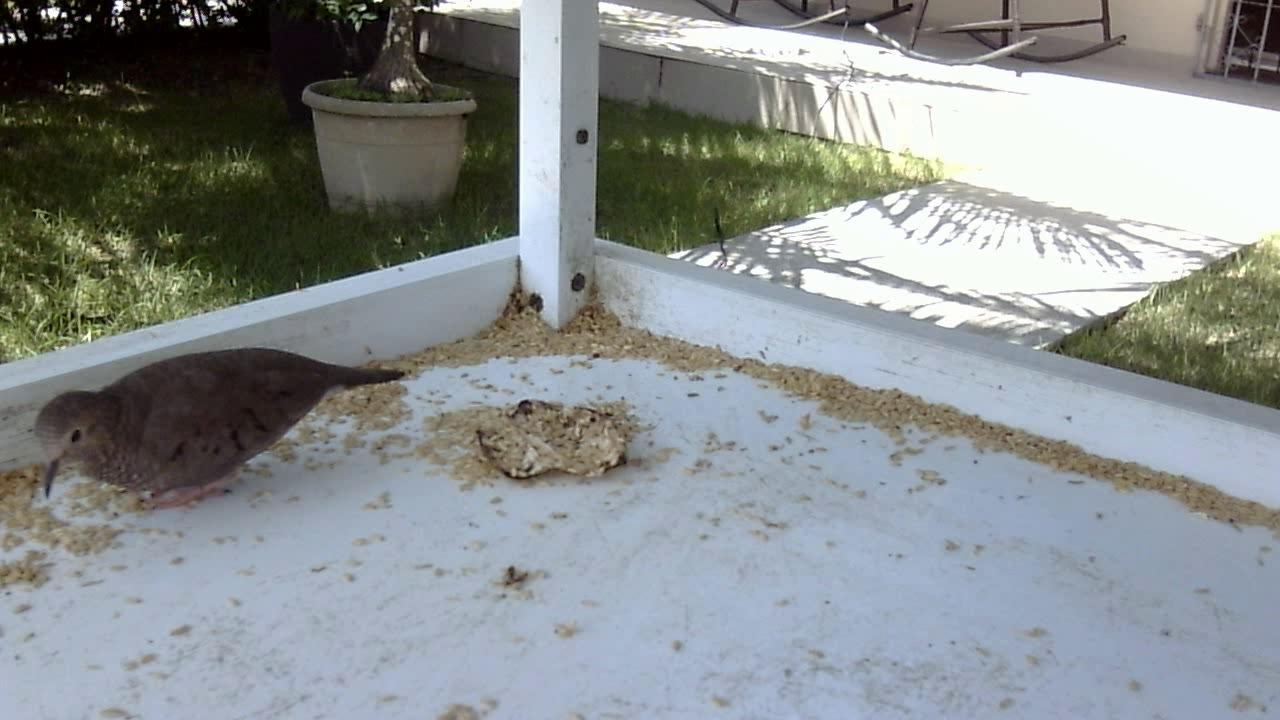rolinha: (31, 332, 416, 523)
